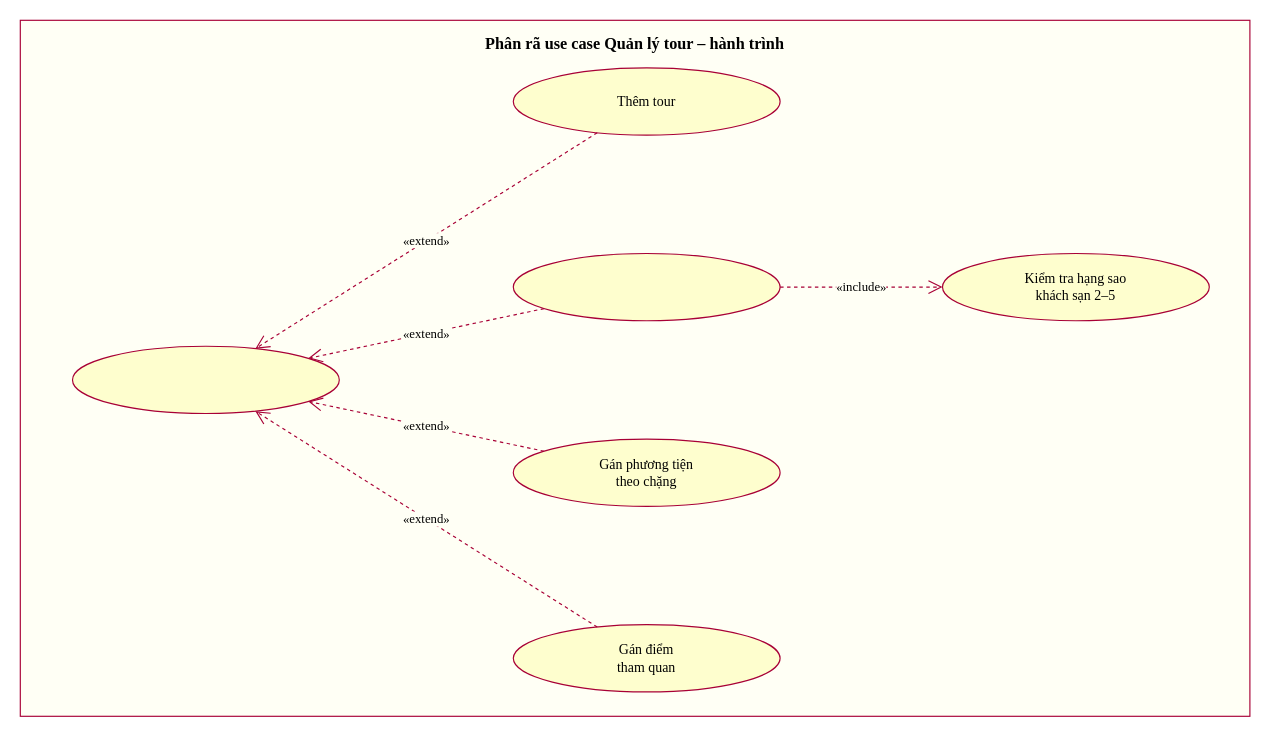
Some shapes in this 1270 by 737 pixel diagram are drawn without their labels. Each missing label, with the box of its shape:
Quản lý tour – hành trình: (71, 345, 339, 414)
Thêm điểm dừng (nơi dừng chân): (512, 252, 780, 321)
